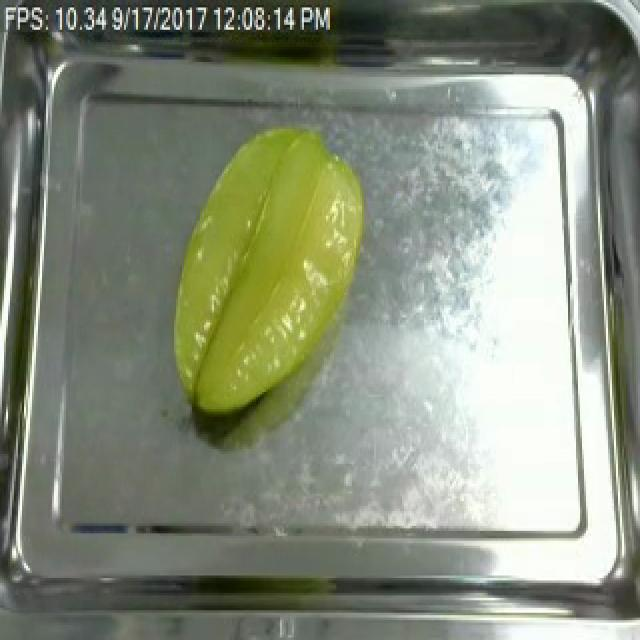fruit: (158, 109, 376, 434)
